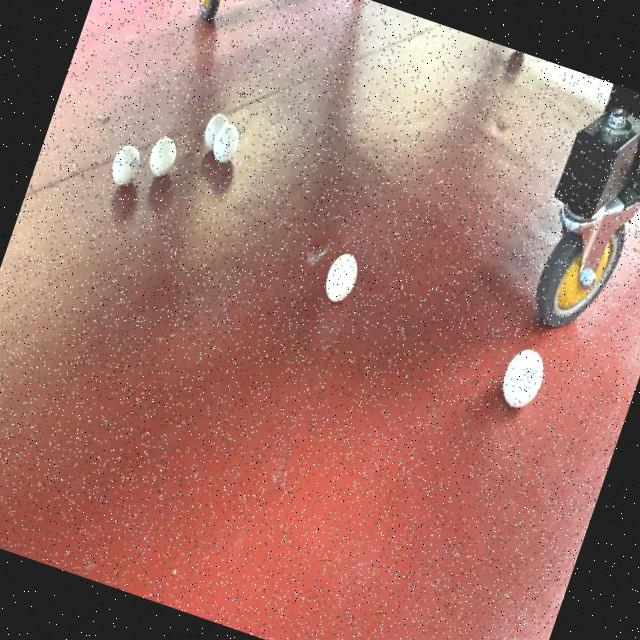ping-pong-ball: (490, 340, 554, 420), (316, 243, 366, 310), (103, 138, 148, 192), (140, 128, 183, 184), (206, 116, 246, 170)
